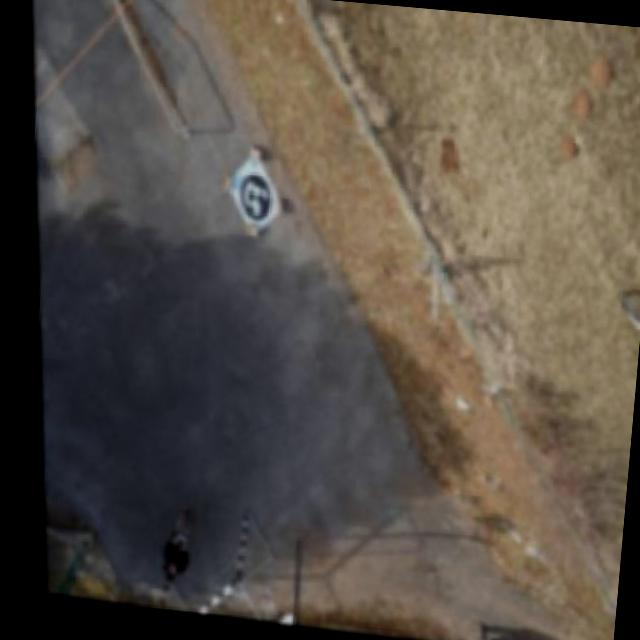Person: (134, 494, 198, 593)
